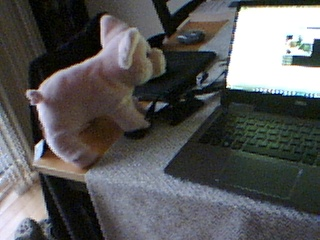piggy: (24, 13, 168, 172)
